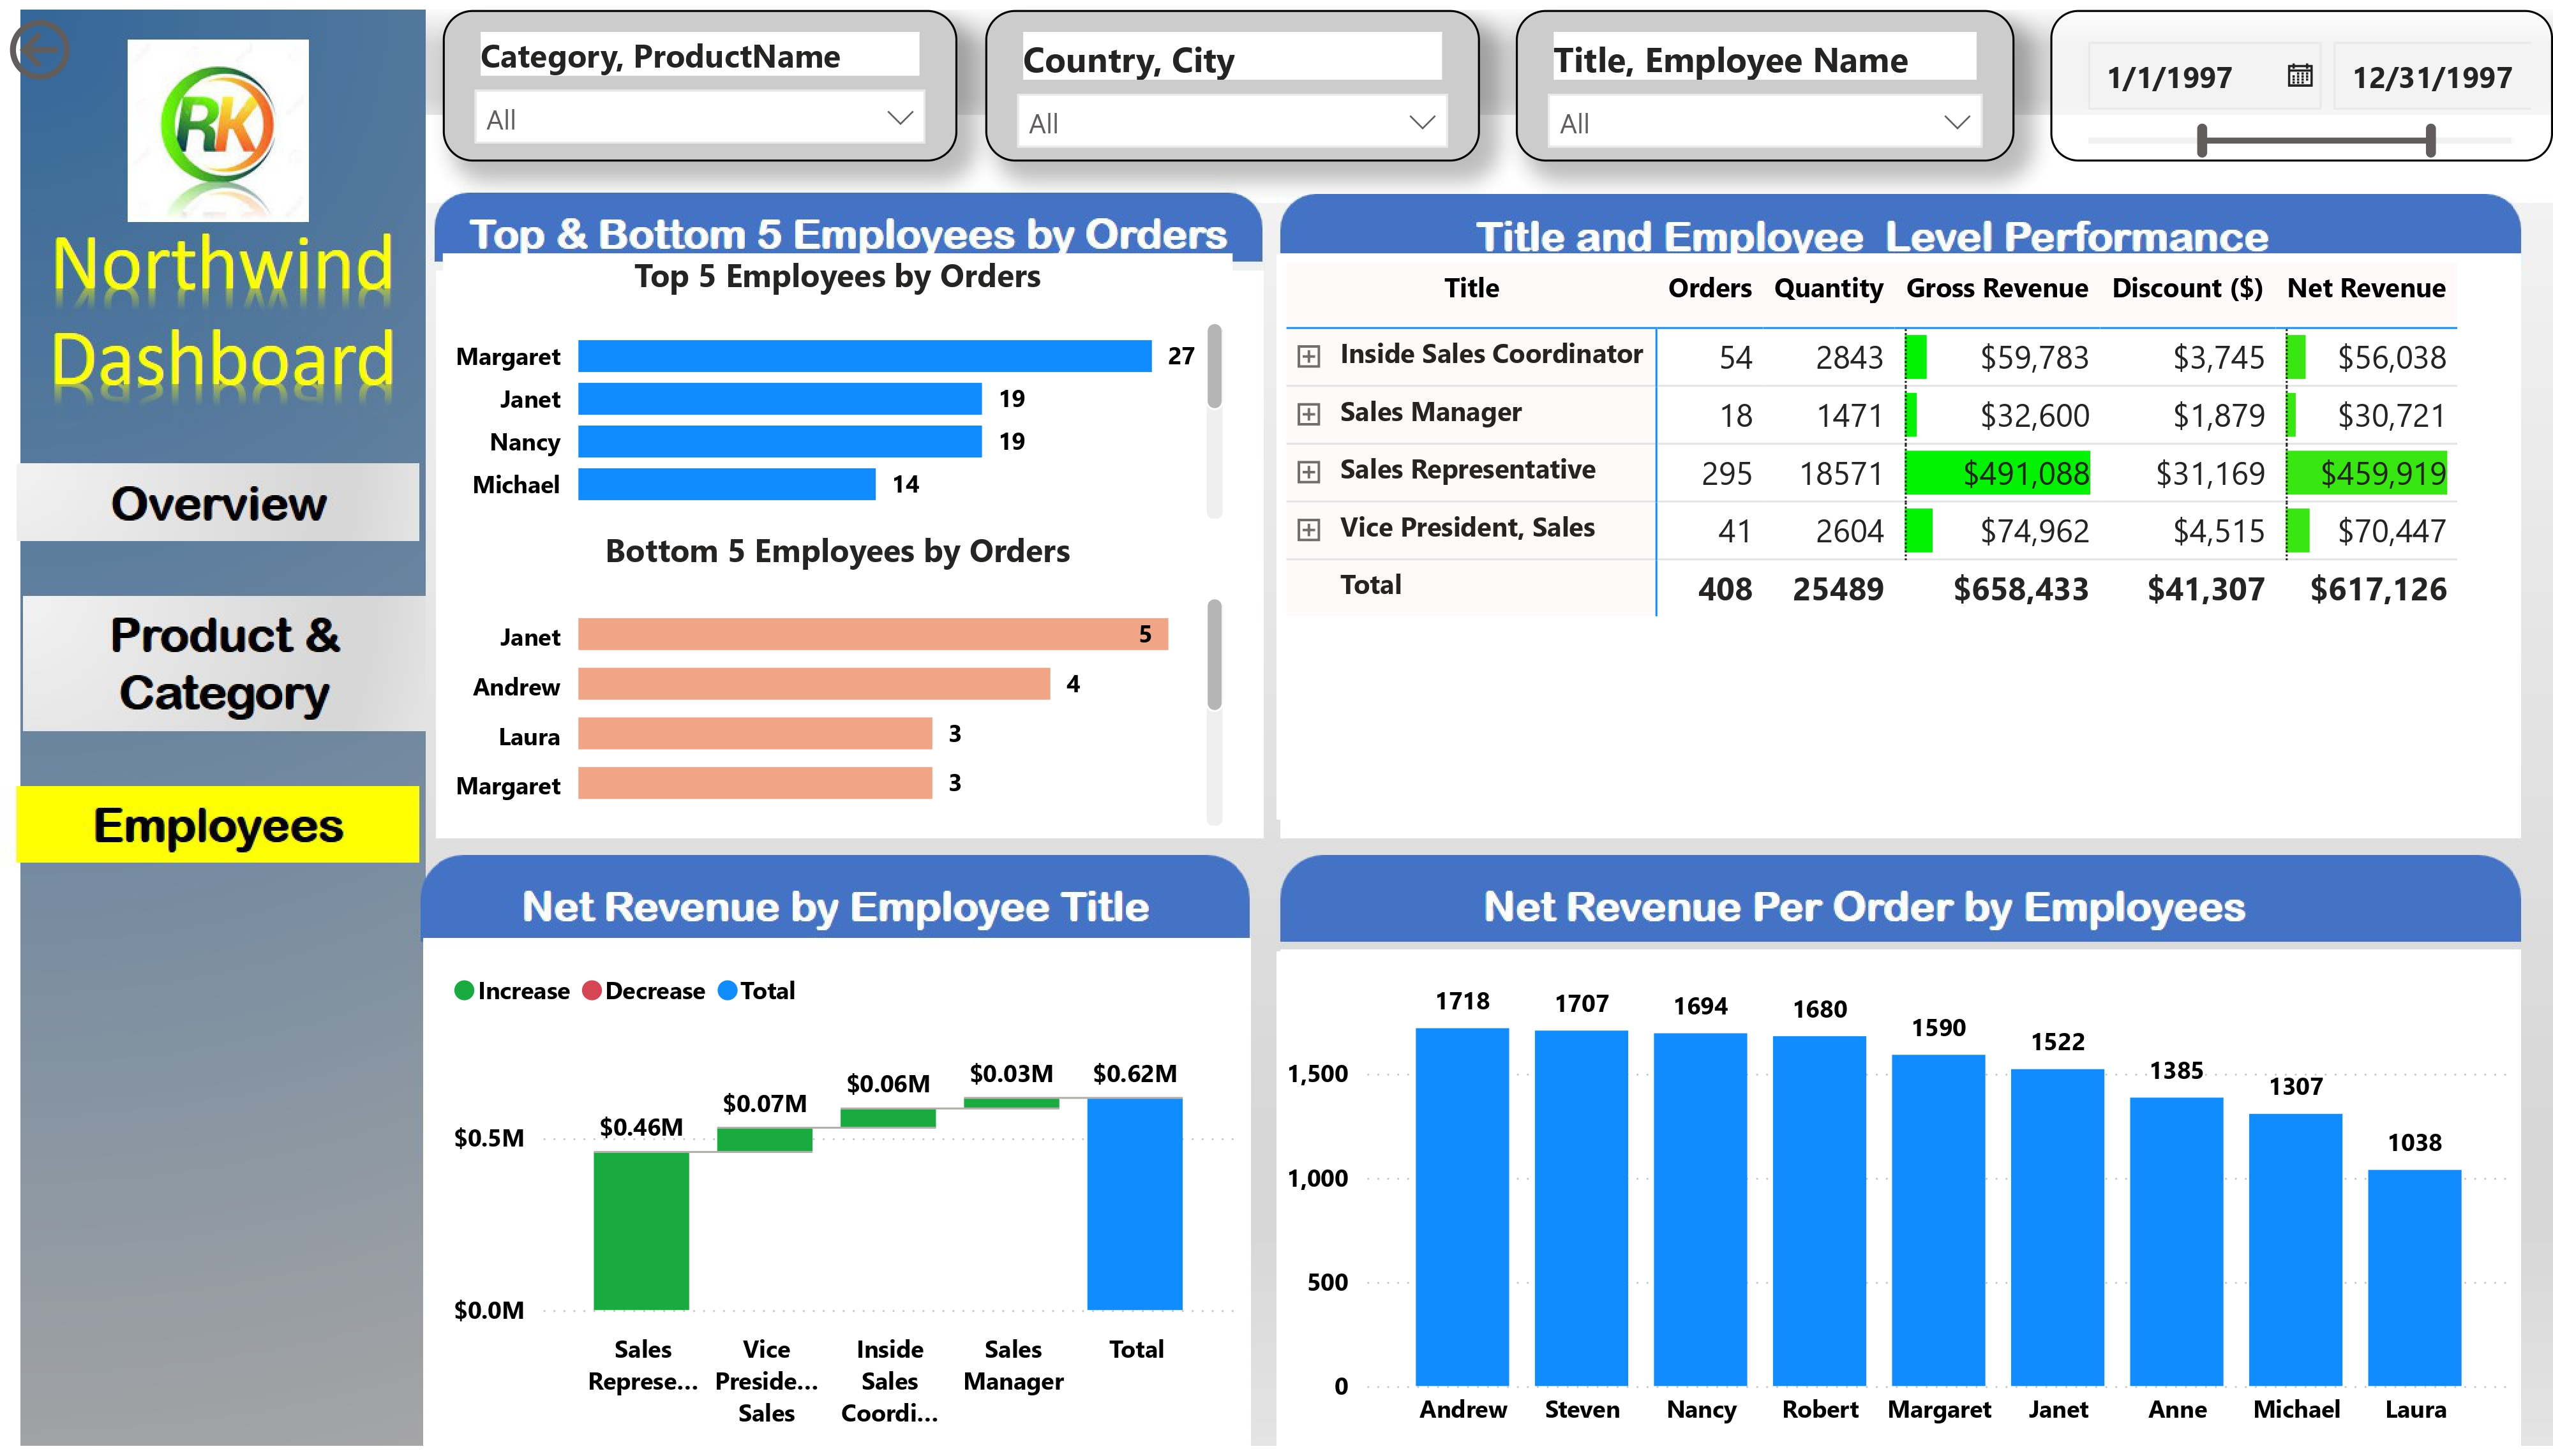

The page's visual inventory and layout, read from the dashboard file:
{"tool":"powerbi","page":{"name":"Employees","canvas":[1280,720],"ordinal":2},"visuals":[{"type":"pivotTable","fields":{"Rows":["Order_Details.Title","Order_Details.FirstName"],"Values":["Order_Details.Total Orders","Order_Details.Quantity","Order_Details.Gross Revenue","Order_Details.Discount ($)","Order_Details.Net Revenue"]},"box":[633,101.7,633,380.5],"z":0},{"type":"columnChart","fields":{"Category":["Order_Details.FirstName"],"Y":["Order_Details.Average Orders per day"]},"box":[632.1,532.9,633.5,174.3],"z":1000},{"type":"clusteredBarChart","title":"Top 5 Employees by Orders","fields":{"Category":["Order_Details.FirstName"],"Y":["Order_Details.Orders"]},"box":[209.5,100.8,400.3,169.1],"z":2000},{"type":"clusteredBarChart","title":"Bottom 5 Employees by Orders","fields":{"Category":["Order_Details.FirstName"],"Y":["Order_Details.Orders"]},"box":[209.5,270,400.3,169.1],"z":3000},{"type":"waterfallChart","fields":{"Category":["Order_Details.Title"],"Y":["Order_Details.Net Revenue"]},"box":[208.3,490.4,401.1,216.9],"z":4000},{"type":"actionButton","box":[0,142,192.9,40.3],"z":5000},{"type":"actionButton","box":[0,141.7,192.8,41.1],"z":6000},{"type":"actionButton","box":[0,212.6,192.8,39.7],"z":7000},{"type":"actionButton","box":[9.9,610.9,42.5,39.7],"z":8000},{"type":"actionButton","box":[75.1,610.9,42.5,39.7],"z":9000},{"type":"actionButton","box":[144.6,609.4,42.5,39.7],"z":10000},{"type":"actionButton","box":[12.8,663.3,165.8,31.2],"z":11000},{"type":"slicer","fields":{"Values":["Order_Details.OrderDate"]},"box":[1086.5,0,192.9,68.6],"z":12000},{"type":"slicer","fields":{"Values":["Products.CategoryName","Products.ProductName"]},"box":[192.2,0,269,68.5],"z":13000},{"type":"slicer","fields":{"Values":["Order_Details.Country","Order_Details.City"]},"box":[494.6,1.7,275.7,68.5],"z":14000},{"type":"slicer","fields":{"Values":["Order_Details.Title","Order_Details.FirstName"]},"box":[803.8,0,282.4,68.5],"z":15000}]}

Visuals, with their boxes in screenshot pixels (x1, y1, x2, y2), scaled from the page's 1280x720 canvas onto the 2553x1456 screenshot:
pivotTable - Order_Details.Title x Order_Details.FirstName: x1=1262, y1=205, x2=2525, y2=975
columnChart - Order_Details.FirstName x Order_Details.Average Orders per day: x1=1261, y1=1078, x2=2524, y2=1430
"Top 5 Employees by Orders" clusteredBarChart: x1=418, y1=204, x2=1217, y2=546
"Bottom 5 Employees by Orders" clusteredBarChart: x1=418, y1=546, x2=1217, y2=888
waterfallChart - Order_Details.Title x Order_Details.Net Revenue: x1=416, y1=992, x2=1215, y2=1430
actionButton: x1=0, y1=287, x2=385, y2=369
actionButton: x1=0, y1=286, x2=384, y2=369
actionButton: x1=0, y1=430, x2=384, y2=510
actionButton: x1=20, y1=1235, x2=105, y2=1316
actionButton: x1=150, y1=1235, x2=235, y2=1316
actionButton: x1=288, y1=1232, x2=373, y2=1312
actionButton: x1=26, y1=1341, x2=356, y2=1404
slicer - Order_Details.OrderDate: x1=2167, y1=0, x2=2552, y2=138
slicer - Products.CategoryName x Products.ProductName: x1=384, y1=0, x2=920, y2=138
slicer - Order_Details.Country x Order_Details.City: x1=987, y1=3, x2=1536, y2=142
slicer - Order_Details.Title x Order_Details.FirstName: x1=1603, y1=0, x2=2166, y2=138
